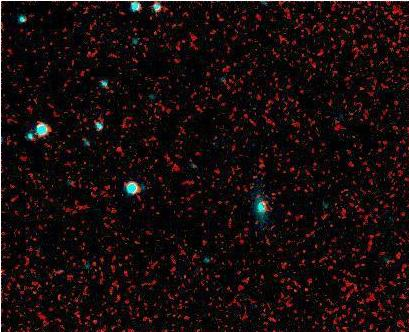star: (249, 188, 279, 218)
